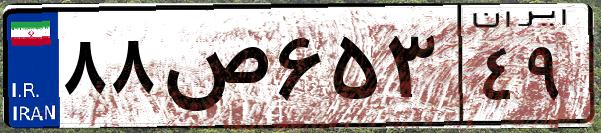3: (385, 28, 445, 110)
4: (475, 38, 525, 113)
5: (330, 28, 385, 110)
6: (270, 28, 330, 110)
8: (57, 26, 110, 100), (110, 28, 158, 98)
9: (525, 38, 570, 115)
ص: (158, 20, 270, 120)
